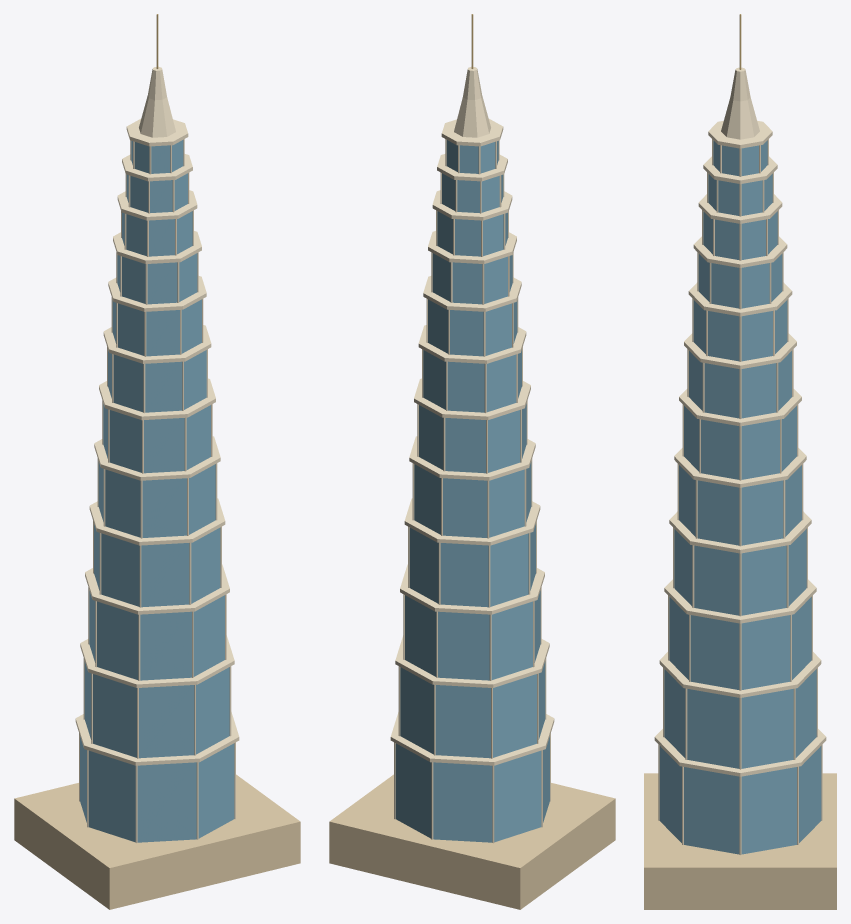
File: jinmao-lod1.glb
3 renders of one model, left to right at view 1: azimuth 30°, elevation 25°; view 2: azimuth 150°, elevation 25°; view 3: azimuth 270°, elevation 25°, orthographic.
Parts seen in each view (by area): view 1: jinmao_architecture; view 2: jinmao_architecture; view 3: jinmao_architecture.
Boxes of the visible parts, left/top/right/bottom form: jinmao_architecture: left=14, top=14, right=300, bottom=909; jinmao_architecture: left=329, top=14, right=615, bottom=909; jinmao_architecture: left=644, top=14, right=836, bottom=909.
Bounding box in the file's own units: 22 × 92.18 × 19.
